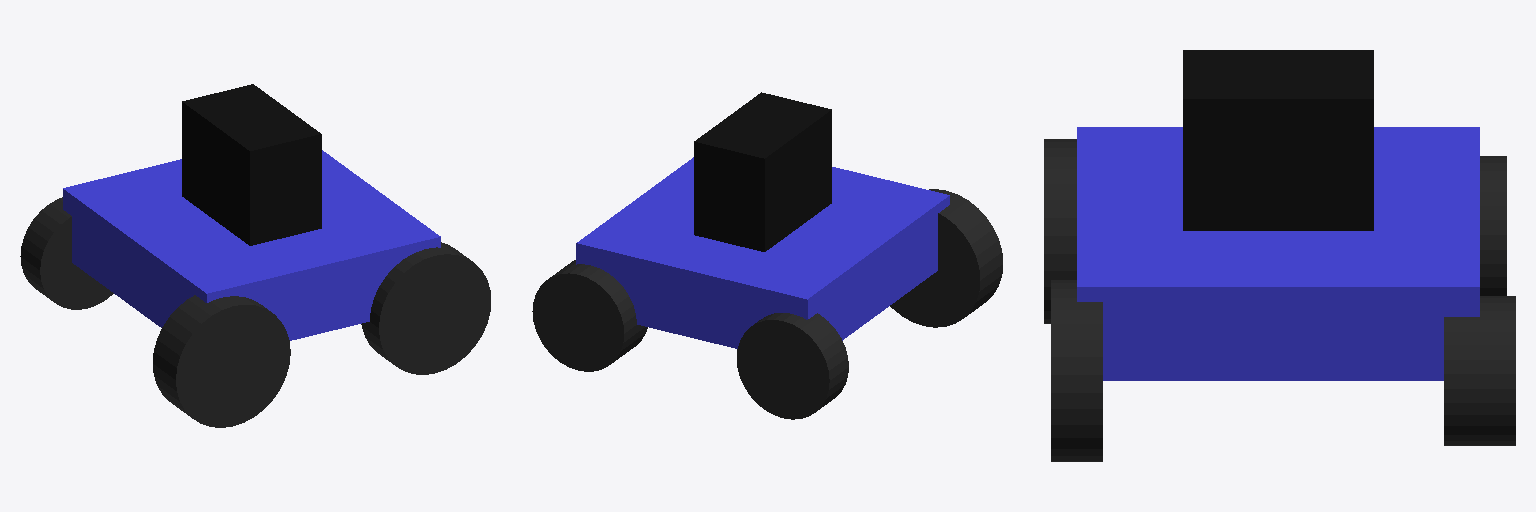
robot.urdf — evolved_robot:
<?xml version="1.0"?>
<robot name="evolved_robot">
  <material name="metal">
    <color rgba="0.7 0.7 0.7 1.0"/>
  </material>
  <material name="plastic">
    <color rgba="0.3 0.3 0.9 1.0"/>
  </material>
  <material name="rubber">
    <color rgba="0.1 0.1 0.1 1.0"/>
  </material>
  <material name="red">
    <color rgba="1.0 0.0 0.0 1.0"/>
  </material>
  <material name="wheel_material">
    <color rgba="0.2 0.2 0.2 1.0"/>
  </material>
  <link name="base_link">
    <visual>
      <geometry><box size="0.314937614659212 0.3361883288096972 0.08684391380071729"/></geometry>
      <material name="plastic"/>
    </visual>
    <collision>
      <geometry><box size="0.314937614659212 0.3361883288096972 0.08684391380071729"/></geometry>
    </collision>
    <inertial>
      <mass value="5.0"/>
      <inertia ixx="0.10047038149340291" ixy="0" ixz="0" 
               iyy="0.08893963874288395" iyz="0" 
               izz="0.17684024462924278"/>
    </inertial>
  </link>
  <link name="link1">
    <visual>
      <geometry>
        <cylinder radius="0.06255185810306499" length="0.059851785901877536"/>
      </geometry>
      <material name="wheel_material"/>
    </visual>
    <collision>
      <geometry>
        <cylinder radius="0.06255185810306499" length="0.059851785901877536"/>
      </geometry>
    </collision>
    <inertial>
      <mass value="1.0"/>
      <inertia ixx="0.0012767034276735098" ixy="0" ixz="0" 
               iyy="0.0012767034276735098" iyz="0" 
               izz="0.0019563674760729884"/>
    </inertial>
  </link>
  <joint name="joint1" type="continuous">
    <parent link="base_link"/>
    <child link="link1"/>
    <origin xyz="0.137468807329606 0.1680941644048486 -0.043421956900358646" rpy="1.5708 0 0"/>
    <axis xyz="0 0 1"/>
    <dynamics damping="0.7784477715973885" friction="0.1"/>
  </joint>
  <link name="link2">
    <visual>
      <geometry>
        <cylinder radius="0.07578756342487761" length="0.042797147168368375"/>
      </geometry>
      <material name="wheel_material"/>
    </visual>
    <collision>
      <geometry>
        <cylinder radius="0.07578756342487761" length="0.042797147168368375"/>
      </geometry>
    </collision>
    <inertial>
      <mass value="1.0"/>
      <inertia ixx="0.0015885716762825432" ixy="0" ixz="0" 
               iyy="0.0015885716762825432" iyz="0" 
               izz="0.002871877384939923"/>
    </inertial>
  </link>
  <joint name="joint2" type="continuous">
    <parent link="base_link"/>
    <child link="link2"/>
    <origin xyz="0.137468807329606 -0.1680941644048486 -0.043421956900358646" rpy="1.5708 0 0"/>
    <axis xyz="0 0 1"/>
    <dynamics damping="0.9332973929305248" friction="0.1"/>
  </joint>
  <link name="link3">
    <visual>
      <geometry>
        <cylinder radius="0.06341371124760828" length="0.045823926981774545"/>
      </geometry>
      <material name="wheel_material"/>
    </visual>
    <collision>
      <geometry>
        <cylinder radius="0.06341371124760828" length="0.045823926981774545"/>
      </geometry>
    </collision>
    <inertial>
      <mass value="1.0"/>
      <inertia ixx="0.0011803107172180106" ixy="0" ixz="0" 
               iyy="0.0011803107172180106" iyz="0" 
               izz="0.0020106493870975205"/>
    </inertial>
  </link>
  <joint name="joint3" type="continuous">
    <parent link="base_link"/>
    <child link="link3"/>
    <origin xyz="-0.137468807329606 0.1680941644048486 -0.043421956900358646" rpy="1.5708 0 0"/>
    <axis xyz="0 0 1"/>
    <dynamics damping="0.43936669472471734" friction="0.1"/>
  </joint>
  <link name="link4">
    <visual>
      <geometry>
        <cylinder radius="0.07730006879916773" length="0.054359798864031916"/>
      </geometry>
      <material name="wheel_material"/>
    </visual>
    <collision>
      <geometry>
        <cylinder radius="0.07730006879916773" length="0.054359798864031916"/>
      </geometry>
    </collision>
    <inertial>
      <mass value="1.0"/>
      <inertia ixx="0.0017400741368005165" ixy="0" ixz="0" 
               iyy="0.0017400741368005165" iyz="0" 
               izz="0.002987650318178032"/>
    </inertial>
  </link>
  <joint name="joint4" type="continuous">
    <parent link="base_link"/>
    <child link="link4"/>
    <origin xyz="-0.137468807329606 -0.1680941644048486 -0.043421956900358646" rpy="1.5708 0 0"/>
    <axis xyz="0 0 1"/>
    <dynamics damping="0.6057419292639447" friction="0.1"/>
  </joint>
  <link name="link5">
    <visual>
      <geometry><box size="0.09626638882656657 0.15894820778350122 0.24381854726456892"/></geometry>
      <material name="rubber"/>
    </visual>
    <collision>
      <geometry><box size="0.09626638882656657 0.15894820778350122 0.24381854726456892"/></geometry>
    </collision>
    <inertial>
      <mass value="0.5"/>
      <inertia ixx="0.007059334728982659" ixy="0" ixz="0" 
               iyy="0.005726225133992711" iyz="0" 
               izz="0.0028776458646078986"/>
    </inertial>
  </link>
  <joint name="joint5" type="prismatic">
    <parent link="base_link"/>
    <child link="link5"/>
    <origin xyz="0 0 0.043421956900358646" rpy="0 0 0"/>
    <axis xyz="-0.4844001897994877 0.8045047724404462 0.3436983084665478"/>
    <dynamics damping="0.7425486986853486" friction="0.1"/>
    <limit lower="-0.9497299366794374" upper="1.1447330603144588" effort="100" velocity="100"/>
  </joint>
</robot>

--- Render facts (derived) ---
Views: 3 orthographic renders of the robot side by side, from view 1: azimuth 30°, elevation 25°; view 2: azimuth 150°, elevation 25°; view 3: azimuth 270°, elevation 25°.
Robot: evolved_robot — 6 links, 5 joints (4 continuous, 1 prismatic); root link base_link; default pose: every joint at zero.
Visible links, largest first — view 1: base_link, link5, link4, link2, link3; view 2: base_link, link5, link3, link1, link4; view 3: base_link, link5, link1, link2, link4, link3.
Boxes of the visible links, x1,y1,x2,y2 form: base_link: (63,150,440,340); link5: (182,84,321,245); link4: (153,295,290,427); link2: (361,242,490,374); link3: (20,197,113,309); base_link: (576,157,949,348); link5: (694,92,831,251); link3: (737,313,848,419); link1: (532,260,647,371); link4: (890,189,1002,327); base_link: (1077,127,1479,380); link5: (1183,50,1373,230); link1: (1444,296,1515,445); link2: (1051,280,1102,461); link4: (1044,139,1076,323); link3: (1480,156,1506,295).
Bounding box of the posed robot: 0.428 × 0.3933 × 0.2861 m (x, y, z).
Geometry: primitives only (box / cylinder / sphere), no mesh files.